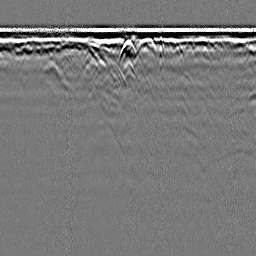cavity: (119, 38, 137, 62)
